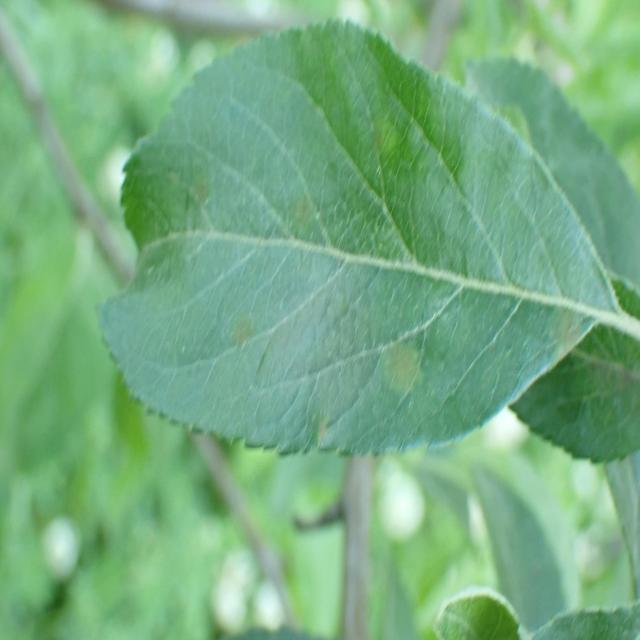scab: (124, 104, 603, 434)
